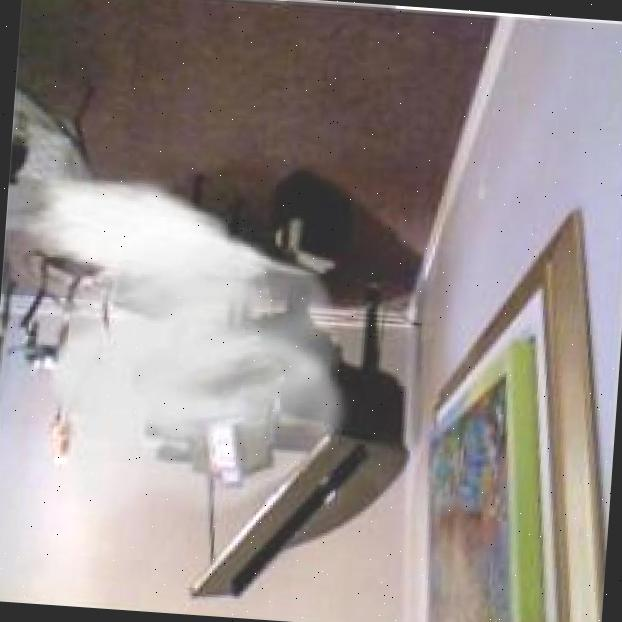smoke: (0, 165, 371, 536)
